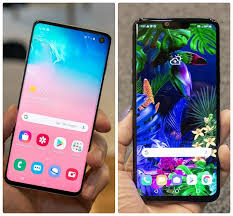lg: (6, 16, 109, 198), (131, 17, 222, 199)
